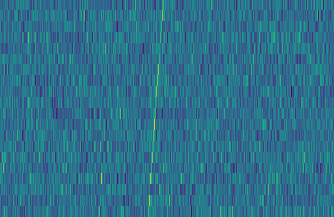signal: (142, 0, 167, 217)
